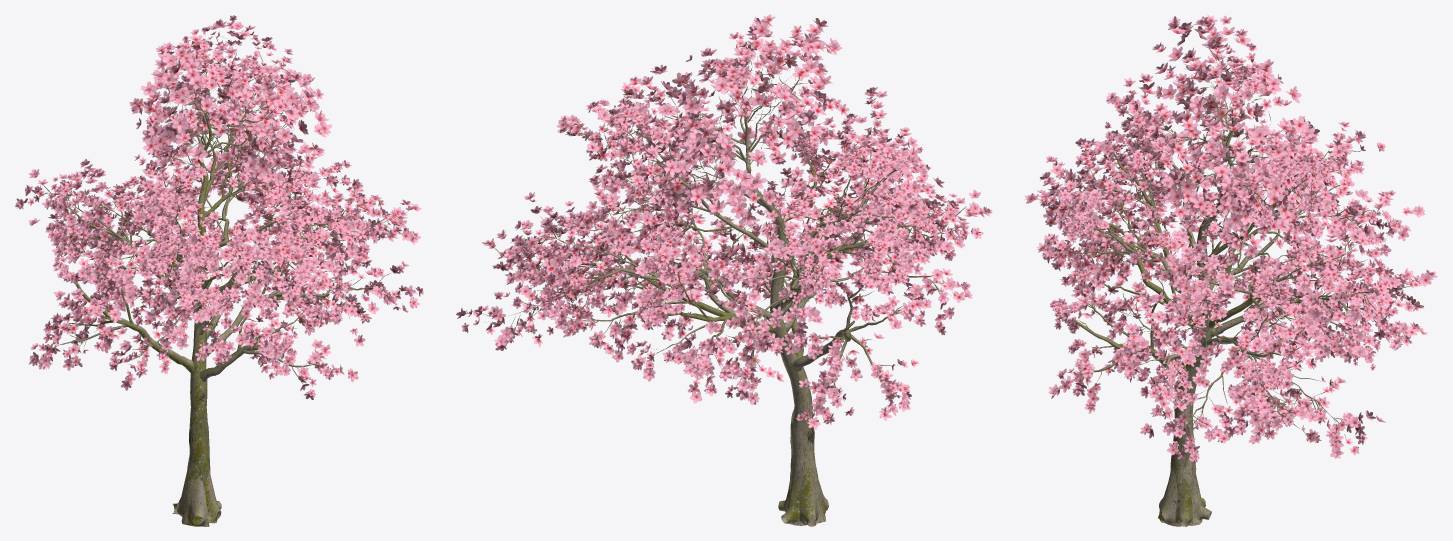
Rendered from trees.glb.
The picture shows the model from 3 angles, left to right: view 1: azimuth 30°, elevation 25°; view 2: azimuth 150°, elevation 25°; view 3: azimuth 270°, elevation 25°; orthographic projection. The views are drawn at different scales.
Visible parts, largest first — view 1: v176CherryTree01.Shape (×2); view 2: v176CherryTree01.Shape (×2); view 3: v176CherryTree01.Shape (×2).
Part boxes in pixels (left/top/right/bottom): v176CherryTree01.Shape (×2): left=15, top=15, right=423, bottom=526; v176CherryTree01.Shape (×2): left=456, top=14, right=992, bottom=526; v176CherryTree01.Shape (×2): left=1024, top=15, right=1437, bottom=526.
Bounding box in the file's own units: 3.59 × 3.9 × 2.94.
Materials: 3 (3 with a texture image).
